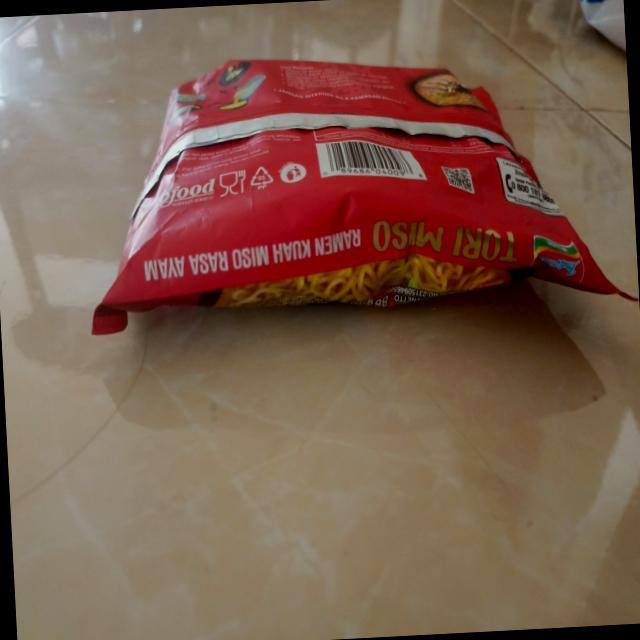indomie-tori-miso: (73, 38, 640, 338)
